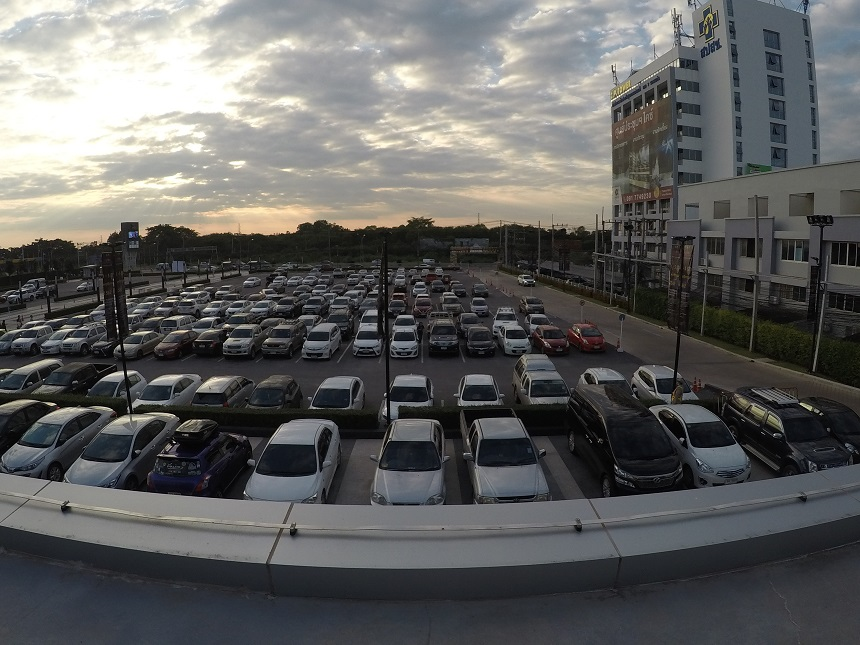busy: (466, 446, 559, 502), (600, 434, 681, 488), (252, 451, 335, 497), (373, 449, 447, 500), (161, 441, 243, 486), (760, 422, 825, 468), (96, 429, 151, 475), (692, 437, 749, 479), (20, 433, 76, 461), (317, 379, 363, 407), (520, 371, 569, 396), (200, 379, 246, 404), (393, 379, 436, 404), (641, 375, 690, 395), (257, 383, 296, 408), (456, 381, 502, 402), (146, 379, 186, 400), (51, 367, 86, 389), (303, 338, 335, 362), (99, 375, 135, 396), (4, 399, 39, 420), (348, 337, 381, 359), (584, 372, 625, 389), (832, 421, 860, 445), (262, 337, 295, 357), (466, 337, 497, 357), (539, 335, 570, 355), (429, 336, 460, 355), (118, 340, 147, 360), (225, 339, 255, 358), (390, 339, 420, 358), (10, 371, 38, 391), (151, 339, 182, 357), (504, 335, 531, 353), (191, 334, 217, 351), (578, 331, 604, 348), (90, 338, 113, 357), (64, 336, 85, 354), (39, 340, 59, 353), (16, 336, 33, 351), (1, 332, 11, 351)
